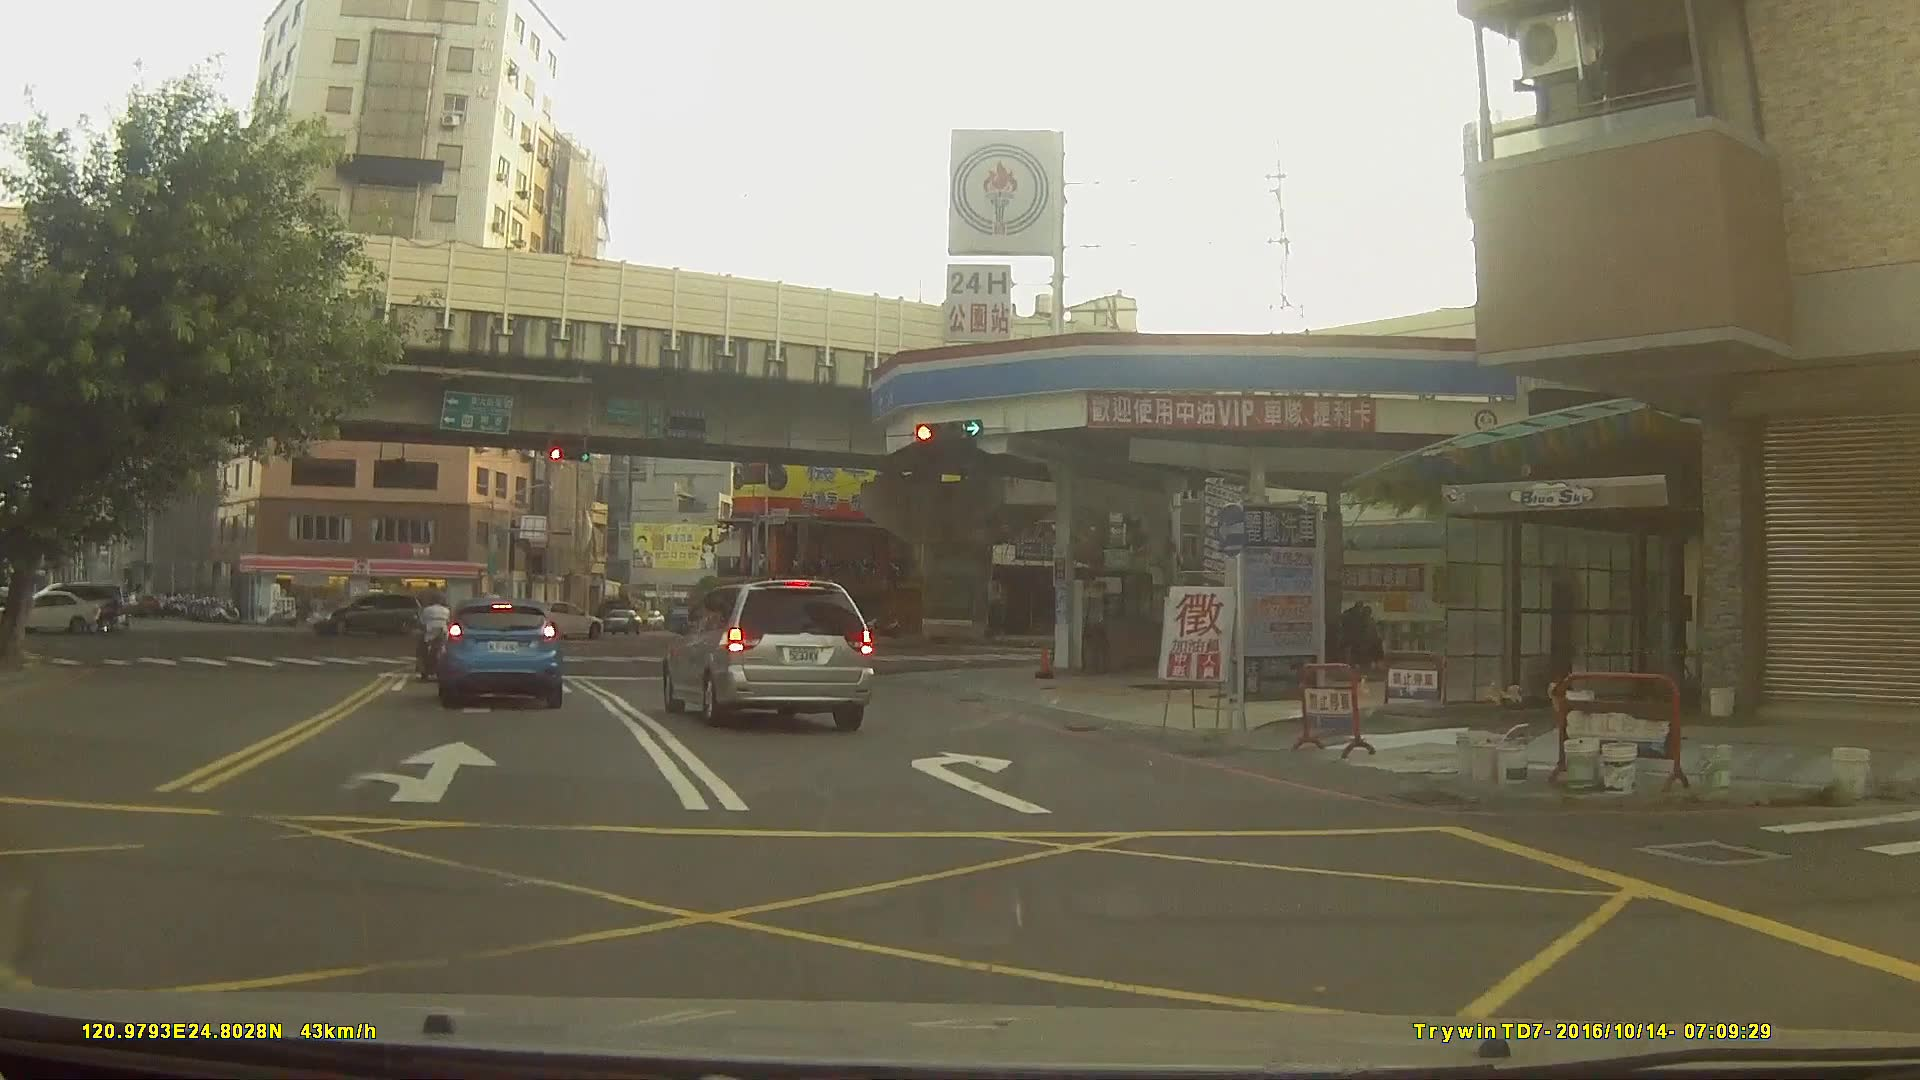rider: (418, 595, 459, 678), (92, 607, 117, 634)
vehicle: (663, 576, 874, 731), (432, 597, 562, 712), (308, 593, 423, 642), (3, 590, 100, 636), (519, 599, 603, 641)
